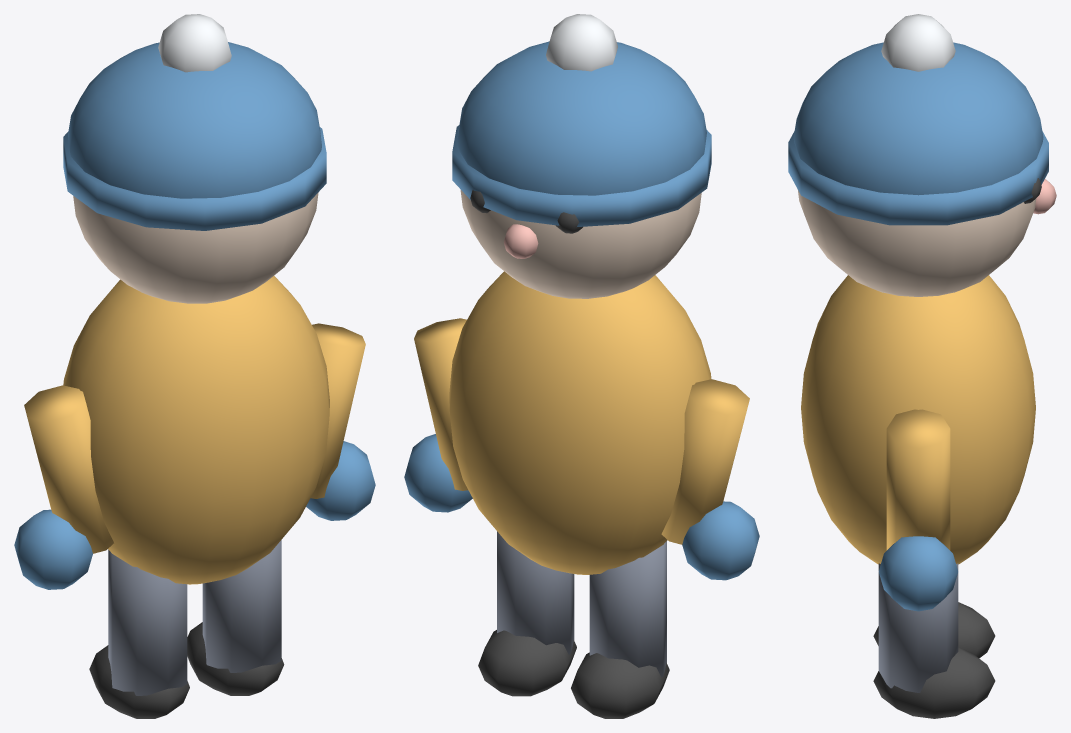
Rendered from player.glb.
The picture shows the model from 3 angles, left to right: view 1: azimuth 30°, elevation 25°; view 2: azimuth 150°, elevation 25°; view 3: azimuth 270°, elevation 25°; orthographic projection. The views are drawn at different scales.
Parts seen in each view (by area): view 1: body, hat, headMesh, legRMesh, brim, armRMesh, legLMesh, armRMitt, armLMesh, pompom, armLMitt, legRBoot (+1 smaller); view 2: body, hat, headMesh, brim, legRMesh, armRMesh, legLMesh, legLBoot, legRBoot, armRMitt, armLMesh, pompom (+2 smaller); view 3: body, hat, headMesh, brim, armLMesh, legLMesh, armLMitt, legLBoot, pompom, legRBoot, nose.
Boxes of the visible parts, x1,y1,x2,y2 form: body: (63,276,329,584); hat: (68,42,321,198); headMesh: (73,192,318,303); legRMesh: (108,550,187,695); brim: (63,127,326,230); armRMesh: (24,385,113,553); legLMesh: (202,540,281,672); armRMitt: (14,509,92,589); armLMesh: (310,323,365,498); pompom: (158,14,231,72); armLMitt: (306,441,375,520); legRBoot: (89,645,189,718); body: (449,271,711,574); hat: (457,41,706,195); headMesh: (460,190,701,298); brim: (452,125,711,226); legRMesh: (589,541,666,677); armRMesh: (661,379,749,544); legLMesh: (497,531,574,654); legLBoot: (478,630,576,696); legRBoot: (571,652,669,718); armRMitt: (682,501,759,580); armLMesh: (414,318,467,490); pompom: (546,14,617,71); body: (801,275,1035,564); hat: (793,42,1043,195); headMesh: (798,190,1036,296); brim: (788,131,1048,225); armLMesh: (886,409,950,550); legLMesh: (878,563,958,692); armLMitt: (878,536,958,611); legLBoot: (873,647,995,718); pompom: (881,14,955,71); legRBoot: (873,602,995,658); nose: (1033,179,1056,214).
Size of the model in its own units: 1.01 by 1.89 by 0.6817.
